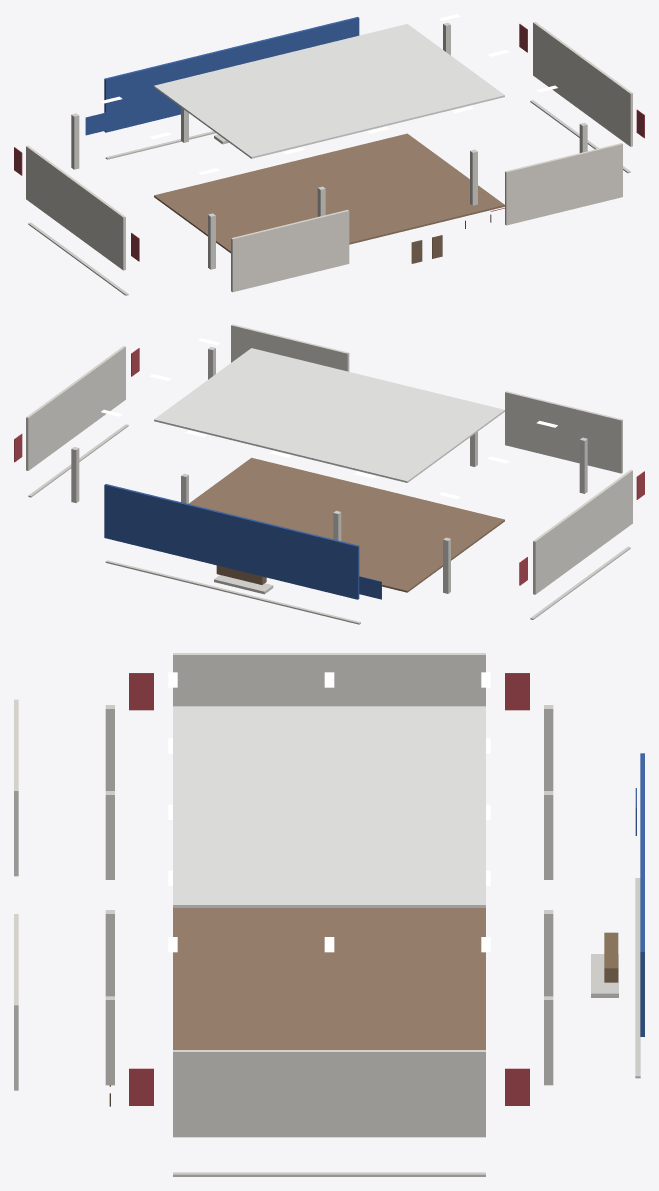
Rendered from hall.glb.
3 views of the same model, one above another, from view 1: azimuth 30°, elevation 25°; view 2: azimuth 150°, elevation 25°; view 3: azimuth 270°, elevation 25° (orthographic). The views are drawn at different scales.
Visible parts, largest first — view 1: Ceiling, Floor, Wall_Back, Wall_Front_Left, Wall_Front_Right, Wall_Left, Wall_Right, ResultsBoard, Column_0_1, Skirting_Left, Column_2_0, Column_0_0; view 2: Ceiling, Floor, Wall_Back, Wall_Front_Left, Wall_Left, Wall_Right, Wall_Front_Right, Skirting_Back, ArbiterPlatform, Column_0_0, Column_3_1, Skirting_Left (+3 smaller); view 3: Ceiling, Floor, Wall_Right, Wall_Left, Skirting_Right, Wall_Back, Skirting_Back, Curtain_Right_0, Curtain_Left_0, Curtain_Right_3, Curtain_Left_3, Column_3_0 (+11 smaller).
Boxes of the visible parts, left/top/right/bottom form: Ceiling: left=154, top=24, right=504, bottom=158; Floor: left=154, top=133, right=504, bottom=253; Wall_Back: left=104, top=17, right=359, bottom=132; Wall_Front_Left: left=231, top=209, right=349, bottom=292; Wall_Front_Right: left=505, top=143, right=622, bottom=225; Wall_Left: left=26, top=145, right=125, bottom=270; Wall_Right: left=533, top=22, right=632, bottom=146; ResultsBoard: left=85, top=111, right=111, bottom=135; Column_0_1: left=71, top=113, right=79, bottom=169; Skirting_Left: left=28, top=222, right=128, bottom=295; Column_2_0: left=470, top=149, right=477, bottom=205; Column_0_0: left=208, top=213, right=215, bottom=269; Ceiling: left=154, top=348, right=504, bottom=482; Floor: left=189, top=457, right=504, bottom=592; Wall_Back: left=104, top=484, right=359, bottom=599; Wall_Front_Left: left=505, top=391, right=622, bottom=473; Wall_Left: left=533, top=469, right=632, bottom=594; Wall_Right: left=26, top=346, right=125, bottom=470; Wall_Front_Right: left=231, top=324, right=349, bottom=371; Skirting_Back: left=105, top=560, right=360, bottom=624; ArbiterPlatform: left=214, top=575, right=273, bottom=594; Column_0_0: left=579, top=437, right=587, bottom=493; Column_3_1: left=71, top=447, right=79, bottom=502; Skirting_Left: left=530, top=546, right=630, bottom=619; Ceiling: left=173, top=706, right=485, bottom=907; Floor: left=173, top=908, right=485, bottom=1049; Wall_Right: left=173, top=1050, right=485, bottom=1137; Wall_Left: left=173, top=653, right=485, bottom=706; Skirting_Right: left=173, top=1172, right=485, bottom=1176; Wall_Back: left=640, top=753, right=644, bottom=1036; Skirting_Back: left=635, top=878, right=640, bottom=1078; Curtain_Right_0: left=129, top=1068, right=153, bottom=1105; Curtain_Left_0: left=129, top=673, right=153, bottom=710; Curtain_Right_3: left=505, top=1068, right=529, bottom=1105; Curtain_Left_3: left=505, top=673, right=529, bottom=710; Column_3_0: left=105, top=996, right=114, bottom=1085.
Bounding box in the file's own units: 30.15 × 6.3 × 20.15.
